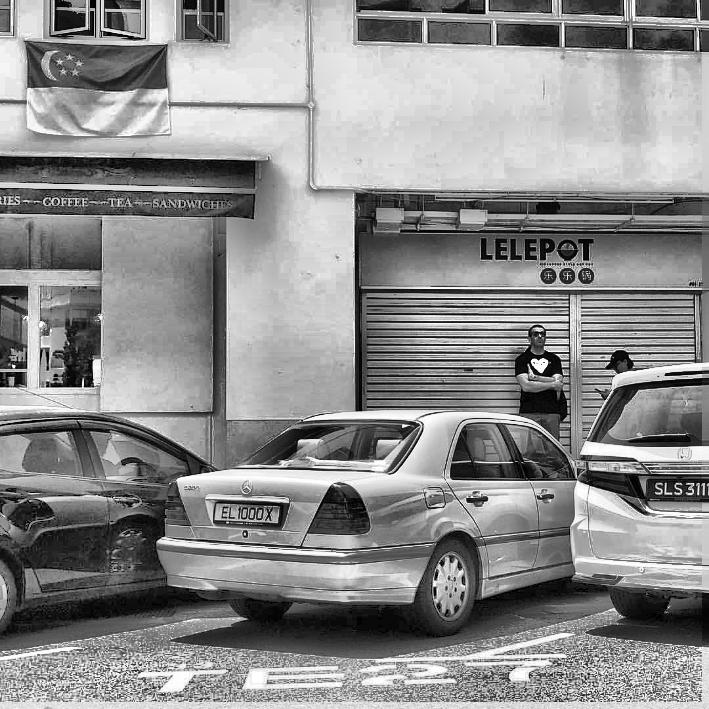License-Plates: (215, 504, 280, 523), (647, 481, 709, 497)
